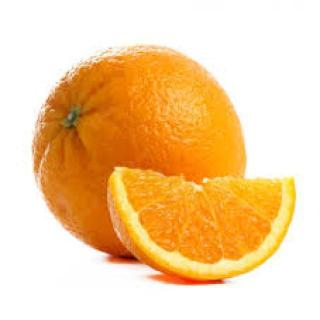orange: (21, 35, 257, 267), (99, 150, 305, 299)
